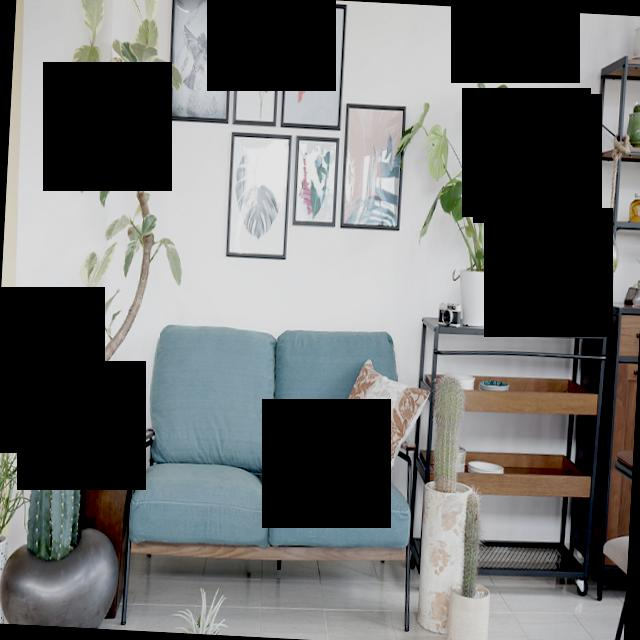vintage shelf: (406, 309, 605, 600)
vintage sofa: (121, 310, 430, 629)
